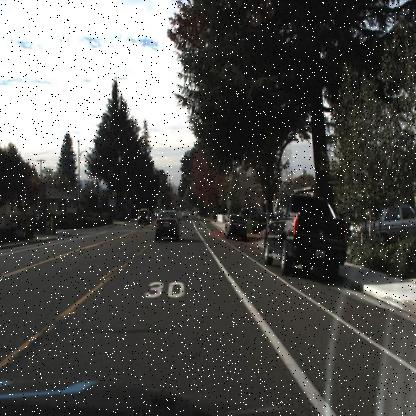car: (262, 188, 356, 274), (346, 200, 415, 258), (152, 209, 181, 241), (224, 210, 249, 243), (135, 204, 152, 228)
